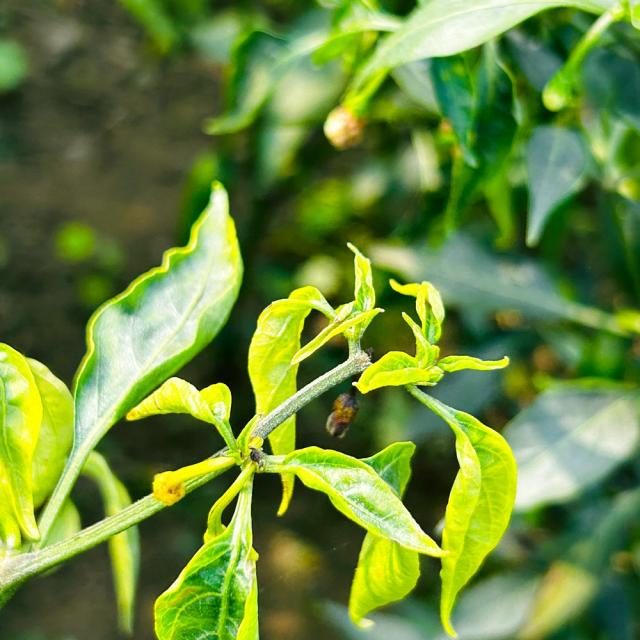Chilli_Leaf_Curl: (1, 180, 518, 638), (123, 278, 447, 637), (32, 179, 245, 551), (346, 276, 518, 638), (404, 383, 518, 637), (271, 442, 447, 558), (152, 461, 260, 639), (0, 340, 76, 556), (246, 284, 336, 450)
